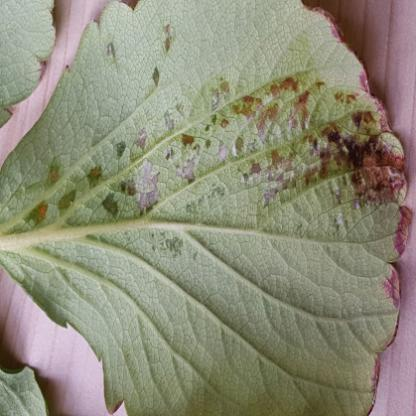Strawberry_Angular_LeafSpot: (5, 0, 414, 314)
